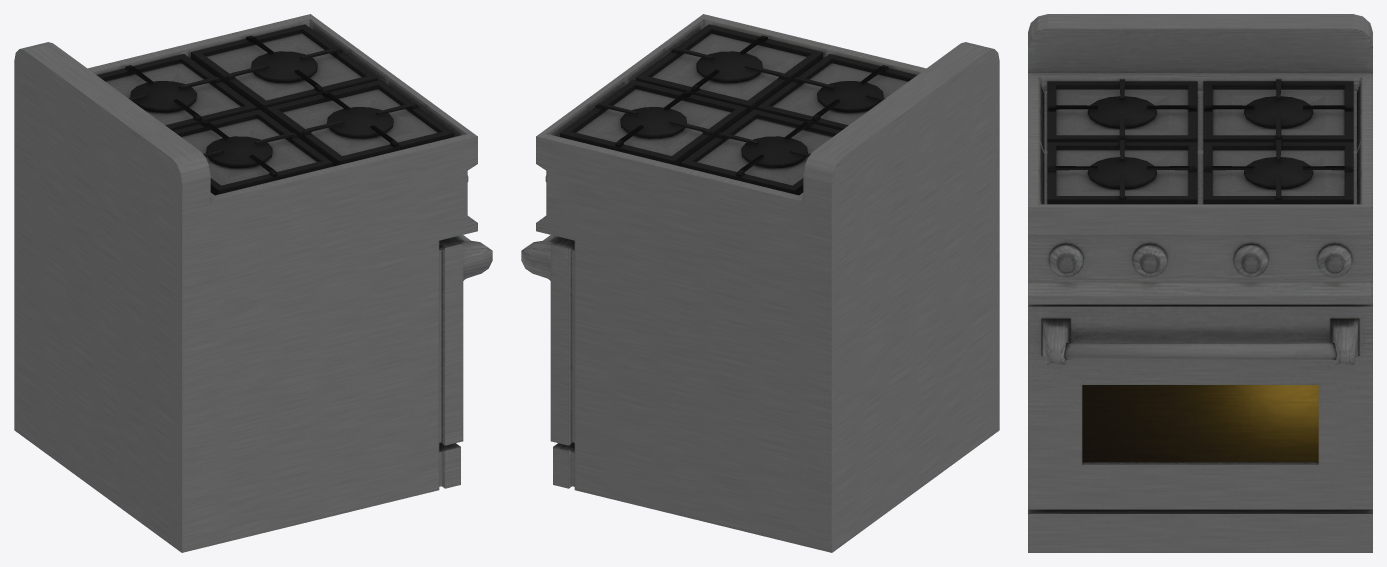
File: Stove.glb
The picture shows the model from 3 angles, left to right: view 1: azimuth 30°, elevation 25°; view 2: azimuth 150°, elevation 25°; view 3: azimuth 270°, elevation 25°; orthographic projection. The views are drawn at different scales.
Visible parts, largest first — view 1: mesh; view 2: mesh; view 3: mesh.
Part boxes in pixels (x1,y1,x2,y2): mesh: (14,14,492,552); mesh: (521,14,999,552); mesh: (1028,14,1372,552).
Size of the model in its own units: 1.97 by 2.25 by 1.77.
Materials: 1 (1 with a texture image).
